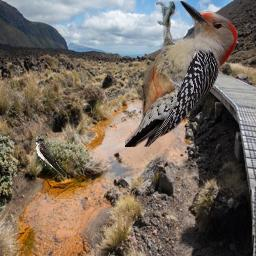Swallow: (35, 135, 67, 177)
Woodpecker: (125, 1, 238, 147)
